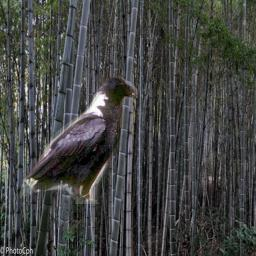Crow: (20, 72, 138, 204)
